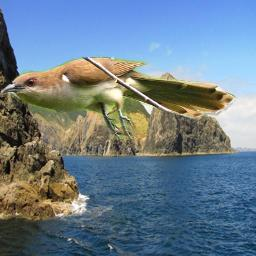Cuckoo: (1, 57, 236, 140)
